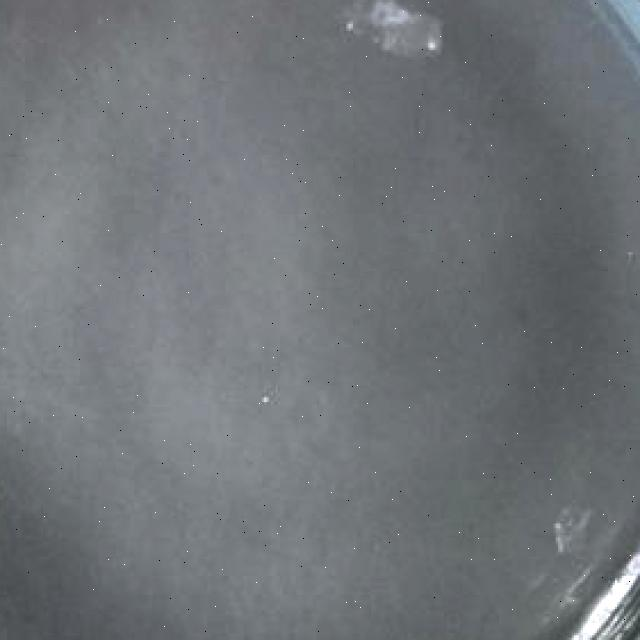Microplastic: (321, 0, 449, 69)
